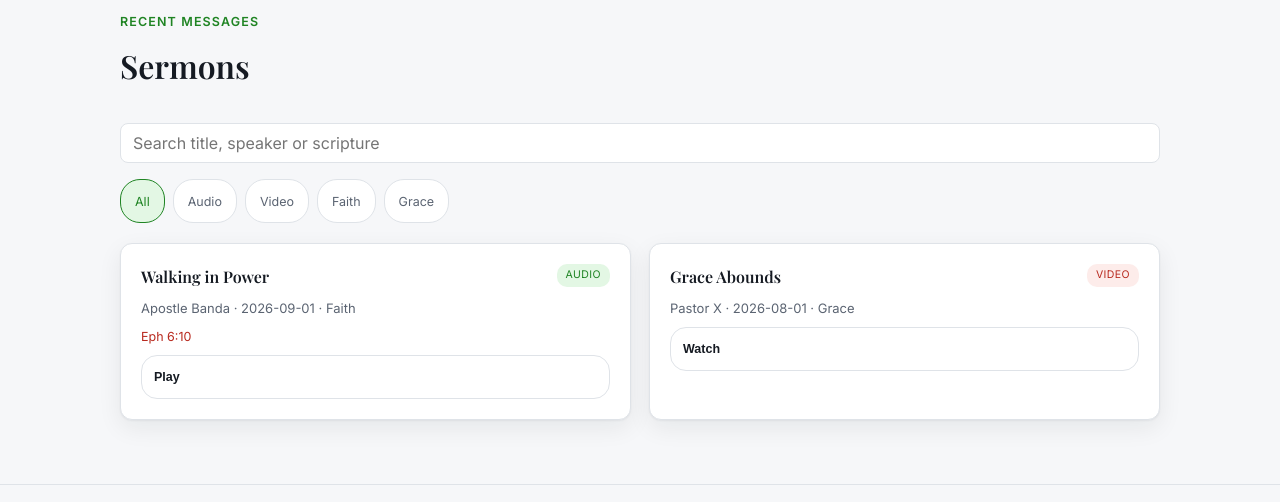
Test: SermonsPage URL filter state › typing in the search box filters by title
Expected: the link "Walking in Power" is shown, left=141, top=266, right=269, bottom=287
Type "Grace" into the search field with placeholder "Search title, speaker or scripture".
click(640, 143); type("Grace")  # box left=120, top=123, right=1160, bottom=163
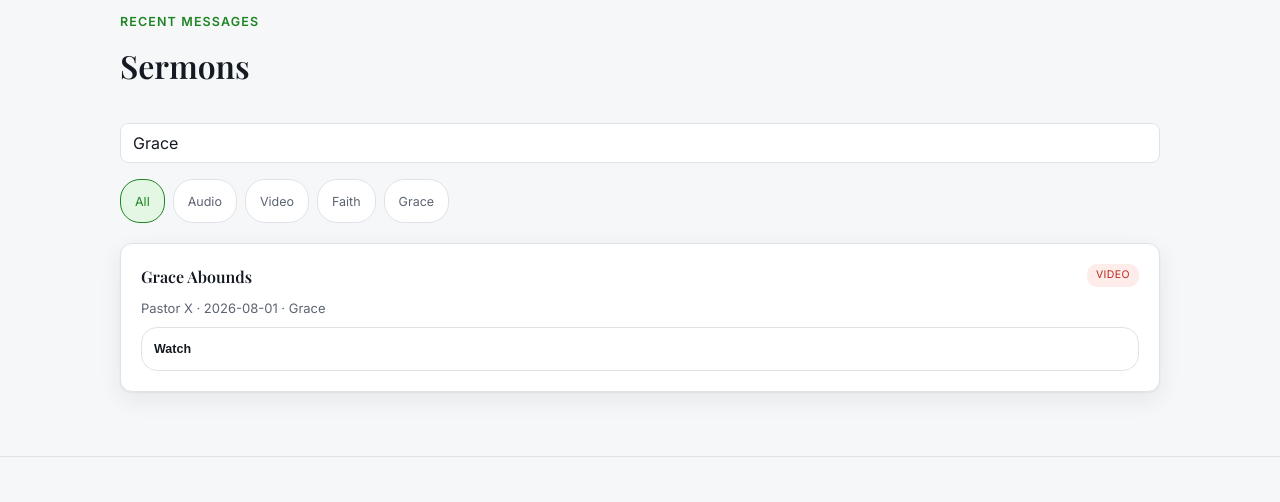
Expected: the link "Grace Abounds" is shown, left=141, top=266, right=252, bottom=287
Expected: the link "Walking in Power" is gone
